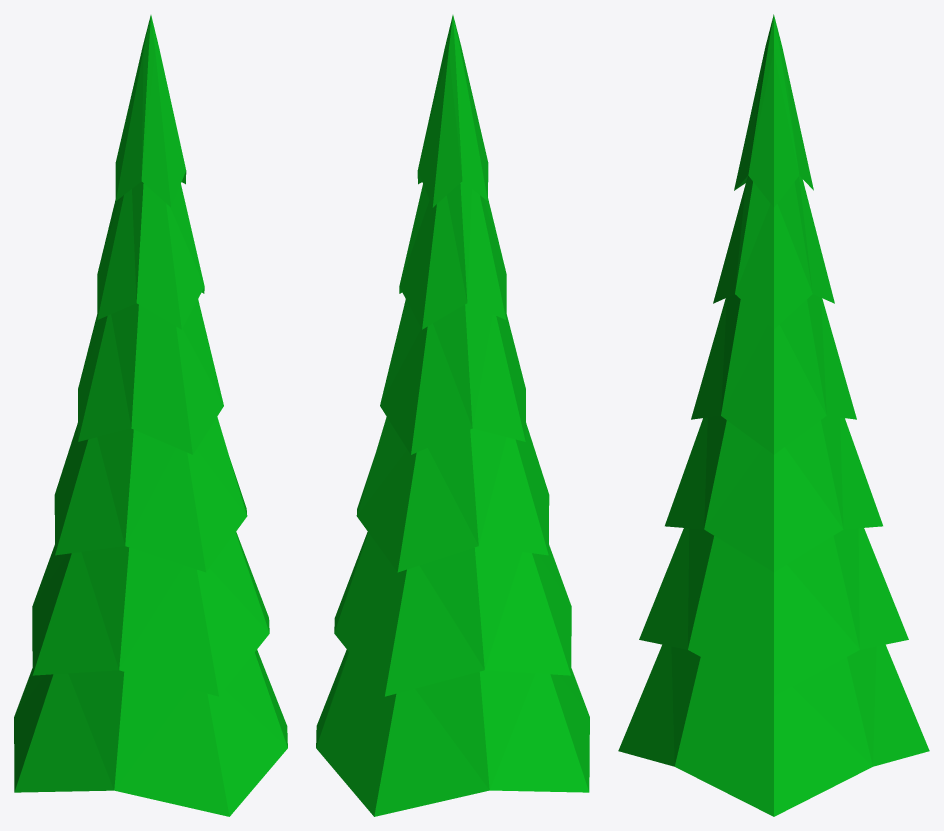
Rendered from SnowTree.dae.
3 renders of one model, left to right at view 1: azimuth 30°, elevation 25°; view 2: azimuth 150°, elevation 25°; view 3: azimuth 270°, elevation 25°, orthographic.
Visible parts, largest first — view 1: Tanne1; view 2: Tanne1; view 3: Tanne1.
Boxes of the visible parts, bbox=[...] form: Tanne1: bbox=[14, 15, 287, 816]; Tanne1: bbox=[316, 15, 589, 816]; Tanne1: bbox=[618, 14, 929, 816].
Size of the model in its own units: 3.8 by 3.8 by 10.17.
